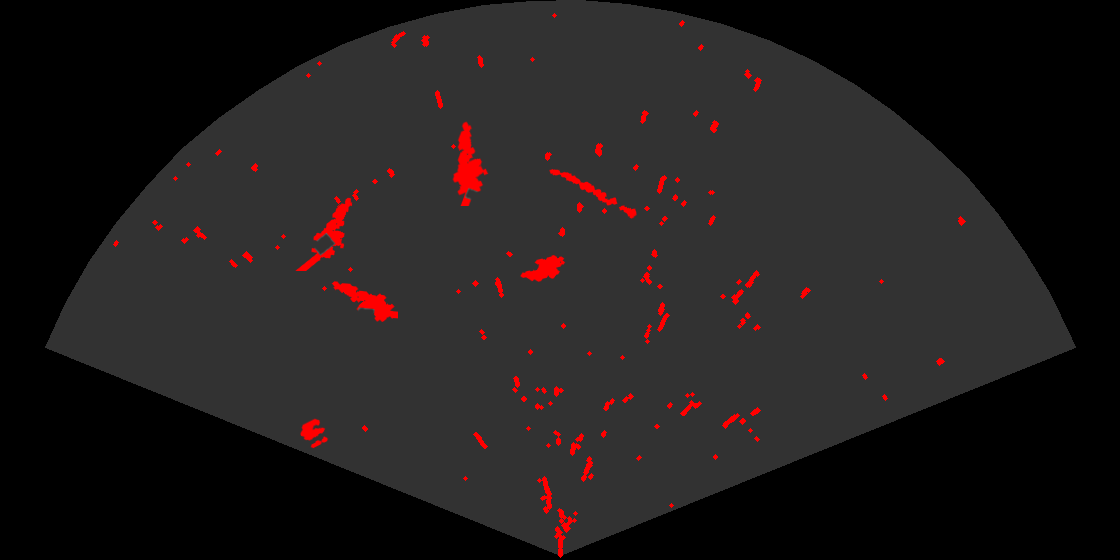AUV: (519, 253, 567, 283)
ball: (299, 417, 330, 450)
chain: (548, 167, 638, 220)
frogman: (294, 196, 354, 271), (451, 120, 490, 206), (330, 280, 398, 323)
